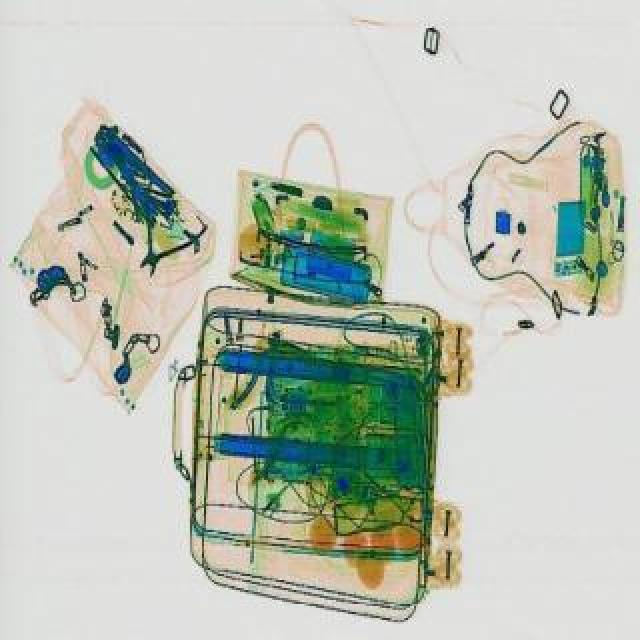wrench: (80, 124, 176, 220), (110, 196, 208, 288)
